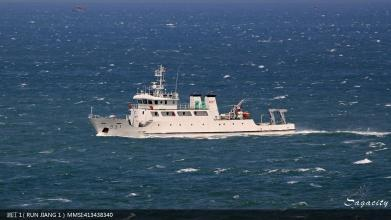otherboat: (87, 71, 301, 141)
